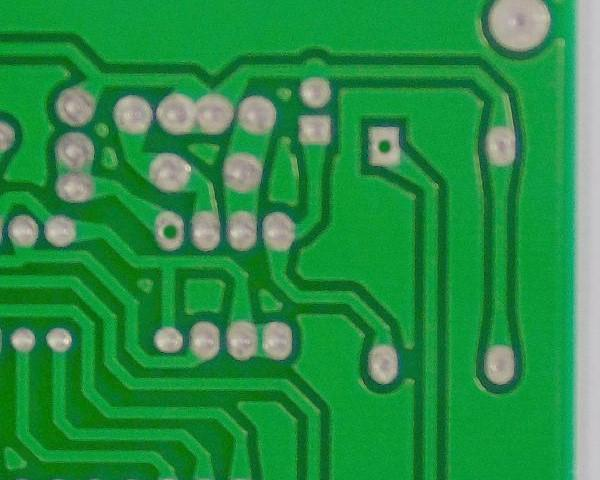missing hole: (364, 119, 405, 170), (151, 205, 188, 252)
